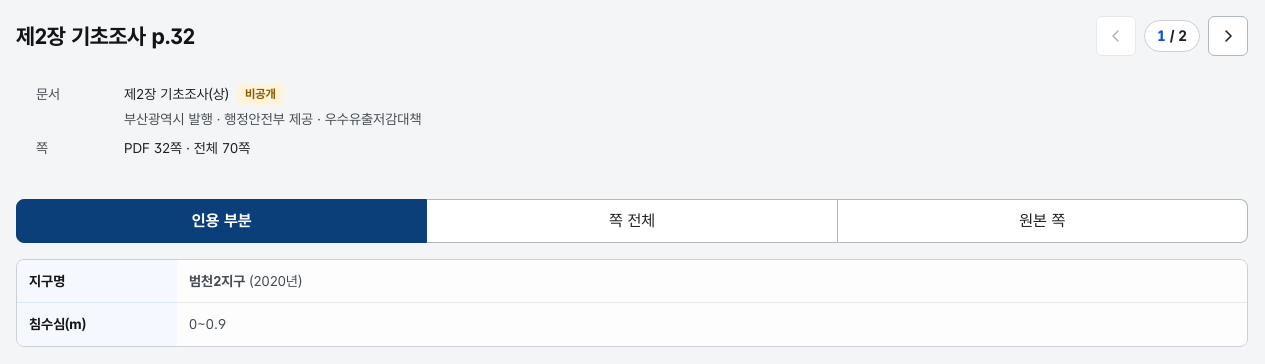
Scenario: 우측 패널 「근거 문서」(EvidencePane — 개발서버 208001) › 제목 줄 · 정보 상자(문서·공개 등급·발행/제공/자료 묶음·쪽) · 인용 부분 먼저(세로 묶음 표, 낱말은 굵게)
Expected: the text "제2장 기초조사(상)" is shown, [124,84,229,105]
Expected: the heading reads "제2장 기초조사 p.32", [16,22,195,48]
가린 쪽은 원본 이미지가 오지 않는다 — 까닭을 글로
Click the tab "원본 쪽" at (1043, 221), box [838,199,1248,243]
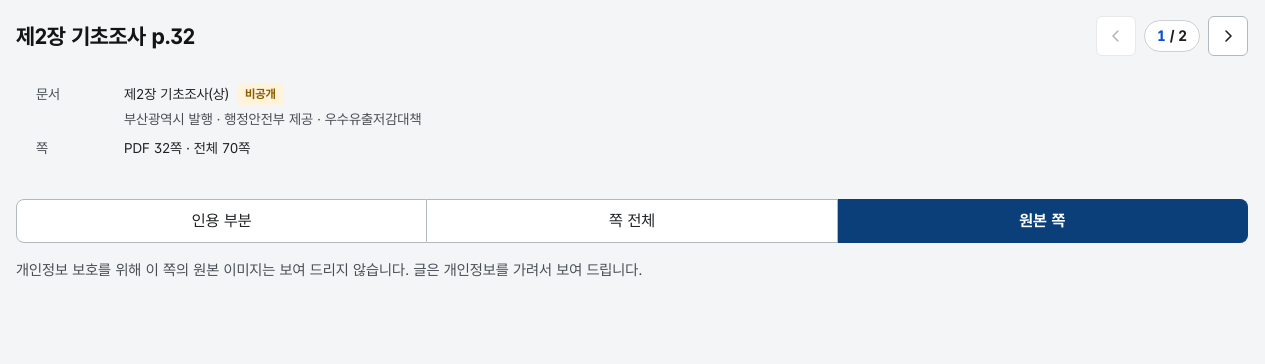
Now the text "개인정보 보호를 위해 이 쪽의 원본 이미지는 보여 드리지 않습니다. 글은 개인정보를 가려서 보여 드립니다." is shown, box [16,261,643,279]
Click the tab "쪽 전체" at (632, 221), box [427,199,838,243]
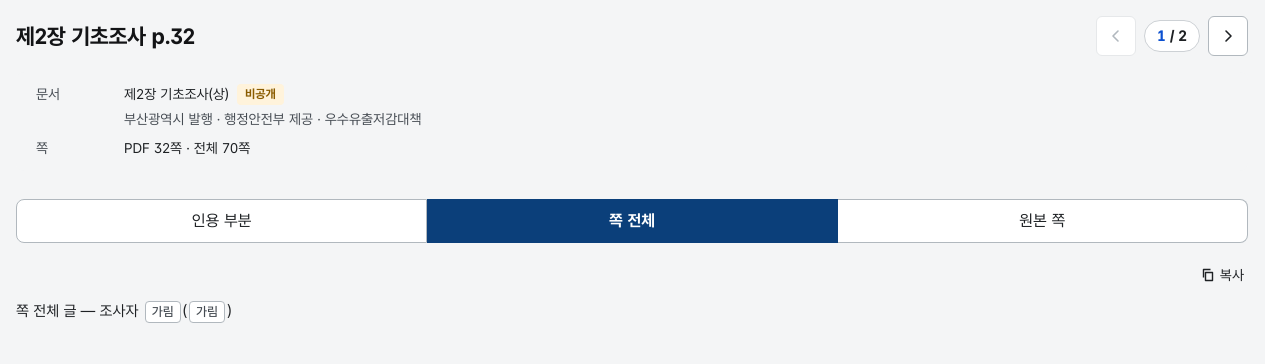
Now the button with aria-label "쪽 내용 복사" reads "복사", box [1196,259,1248,291]
